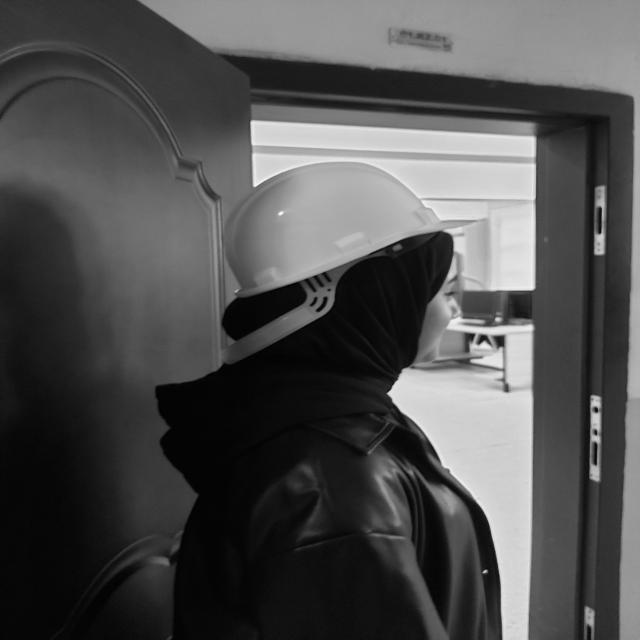safety_helmet: (223, 162, 445, 349)
